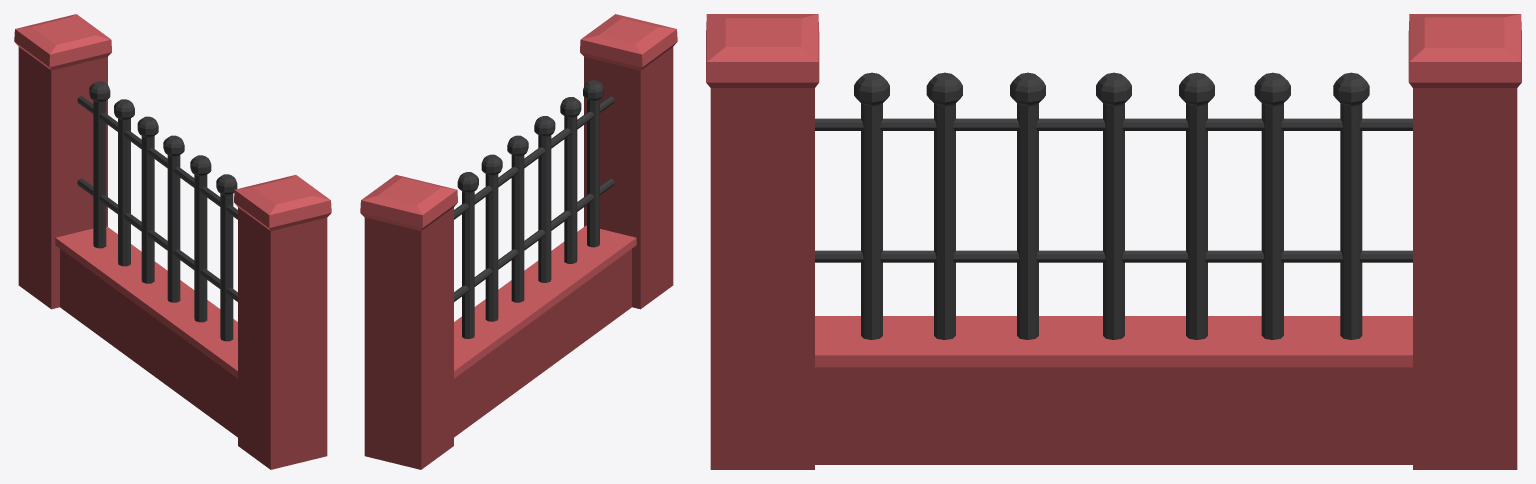
The model's file is BrickFence2m.fbx.
The picture shows the model from 3 angles, left to right: view 1: azimuth 30°, elevation 25°; view 2: azimuth 150°, elevation 25°; view 3: azimuth 270°, elevation 25°; orthographic projection. The views are drawn at different scales.
Visible parts, largest first — view 1: BrickFence; view 2: BrickFence; view 3: BrickFence.
Part boxes in pixels (x1=…): BrickFence: x1=14, y1=14, x2=331, y2=469; BrickFence: x1=360, y1=14, x2=677, y2=469; BrickFence: x1=706, y1=14, x2=1521, y2=469.
Bounding box in the file's own units: 2.33 × 0.3307 × 1.31.
